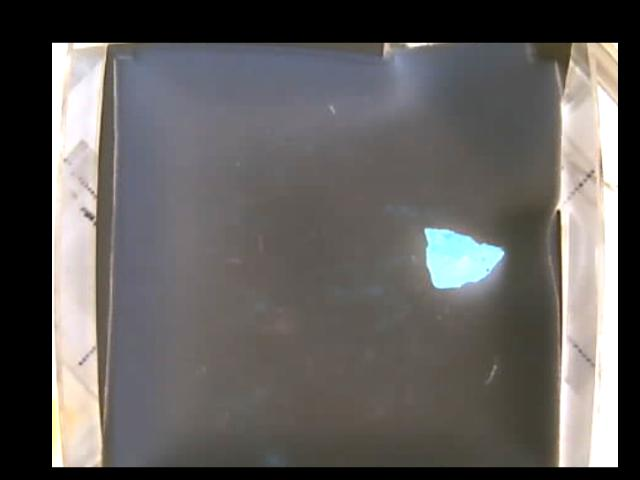Brisk: (423, 226, 509, 285)
